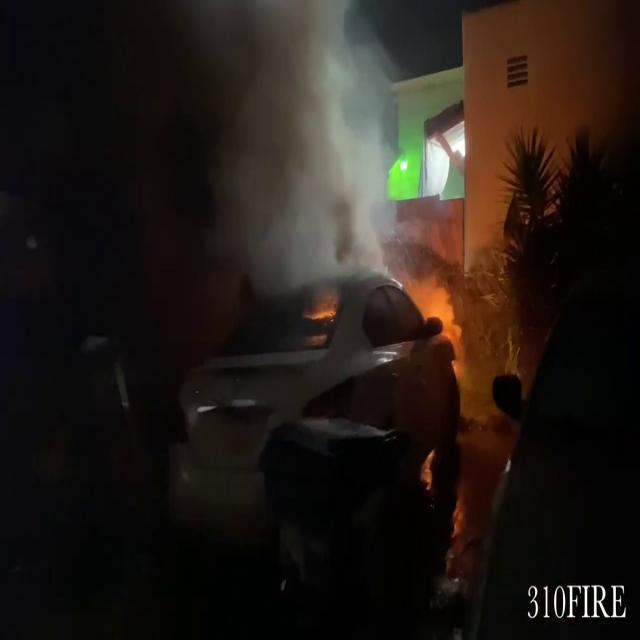Smoke: (207, 0, 400, 304)
